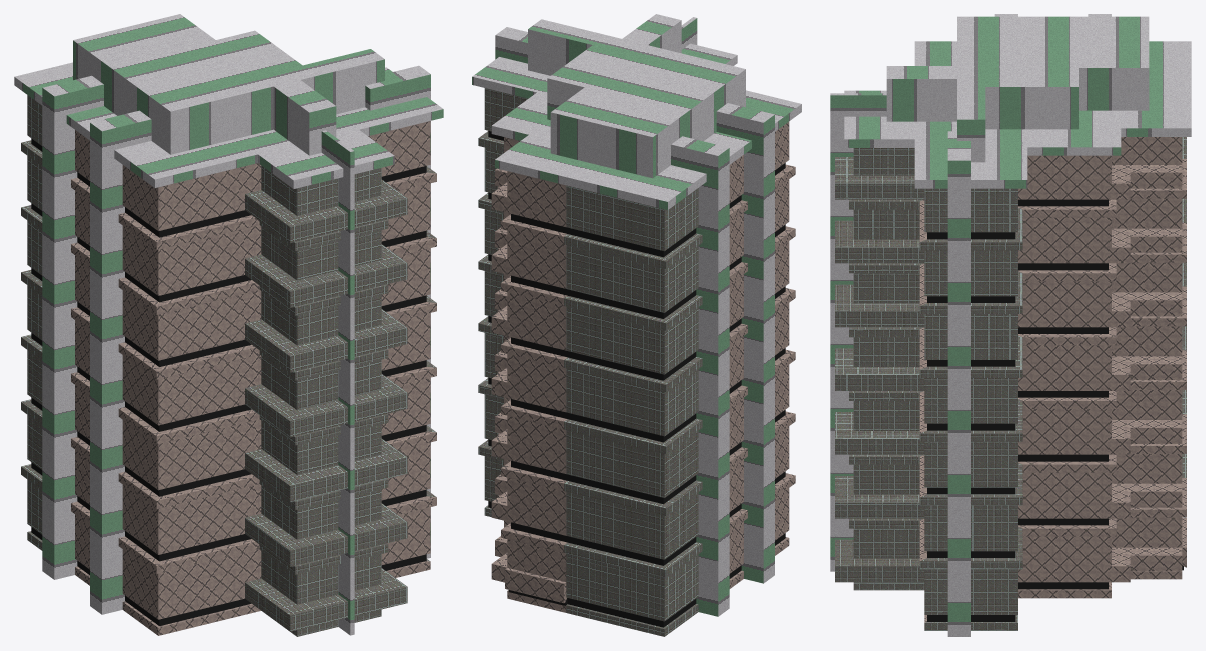
The model's file is Building_v2.fbx.
The picture shows the model from 3 angles, left to right: view 1: azimuth 30°, elevation 25°; view 2: azimuth 150°, elevation 25°; view 3: azimuth 270°, elevation 25°; orthographic projection. The views are drawn at different scales.
Visible parts, largest first — view 1: Building_v2; view 2: Building_v2; view 3: Building_v2.
Part boxes in pixels (box(x1,y1,x2,y2)): Building_v2: box(14, 14, 443, 636); Building_v2: box(472, 14, 801, 636); Building_v2: box(830, 14, 1191, 636).
Size of the model in its own units: 1480 by 2340 by 1540.
